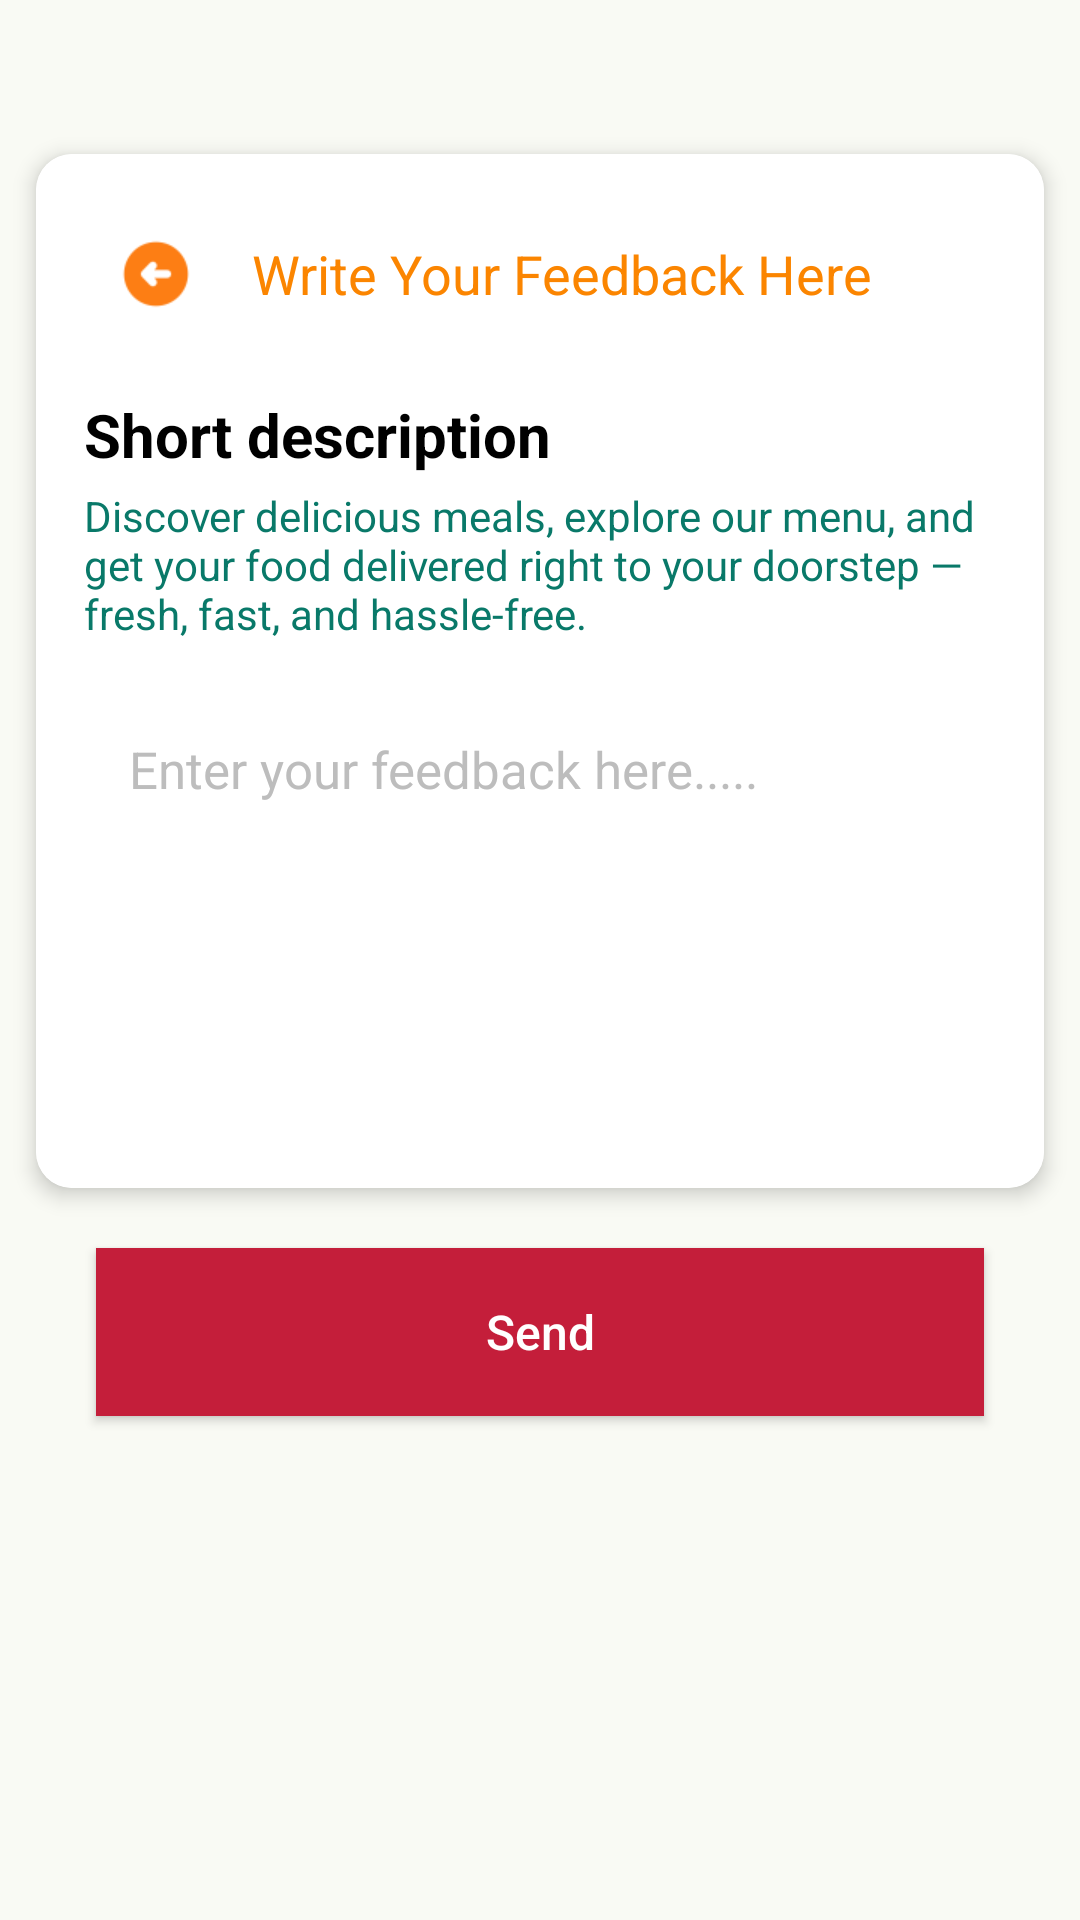

Where icons sit on this 1080*1920 app screen, as (x1, y1, x2, y2):
Go back: (123, 241, 189, 307)
